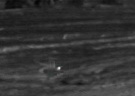Target: (58, 67, 60, 69)
